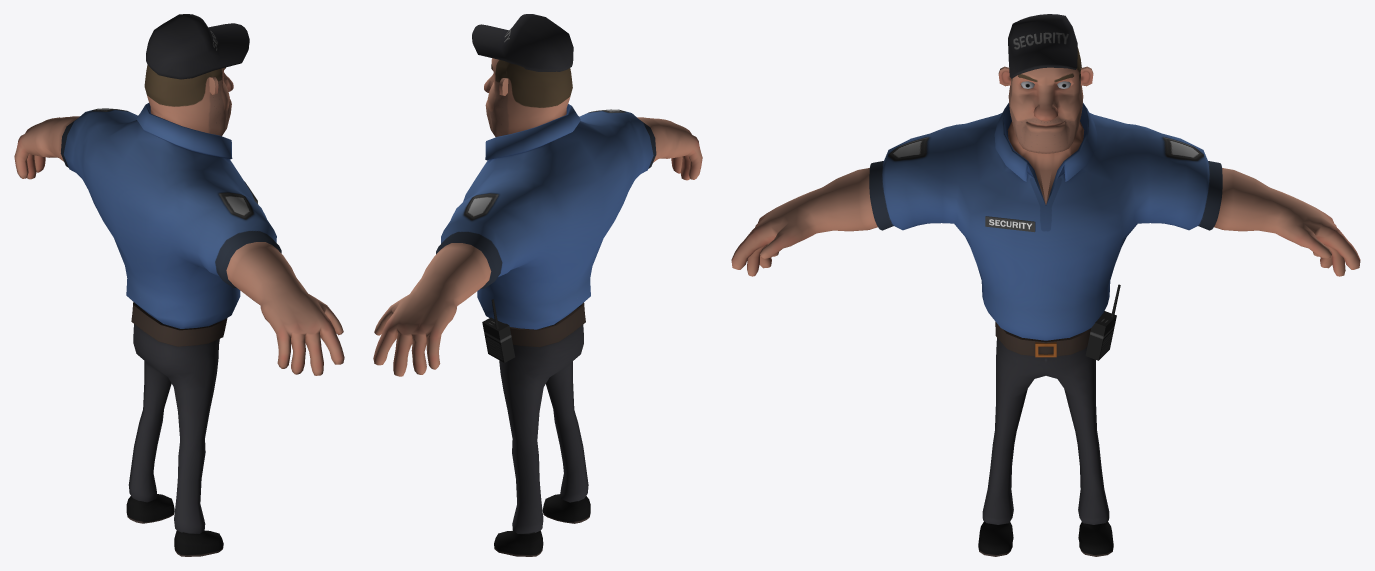
File: guard.fbx
3 renders of one model, left to right at view 1: azimuth 30°, elevation 25°; view 2: azimuth 150°, elevation 25°; view 3: azimuth 270°, elevation 25°, orthographic. The views are drawn at different scales.
Parts seen in each view (by area): view 1: Security_SecurityGuard_0; view 2: Security_SecurityGuard_0; view 3: Security_SecurityGuard_0.
Boxes of the visible parts, x1=… form: Security_SecurityGuard_0: x1=14, y1=14, x2=344, y2=556; Security_SecurityGuard_0: x1=373, y1=14, x2=702, y2=556; Security_SecurityGuard_0: x1=731, y1=14, x2=1360, y2=556.
Bounding box in the file's own units: 3.27 × 12.34 × 13.1.
